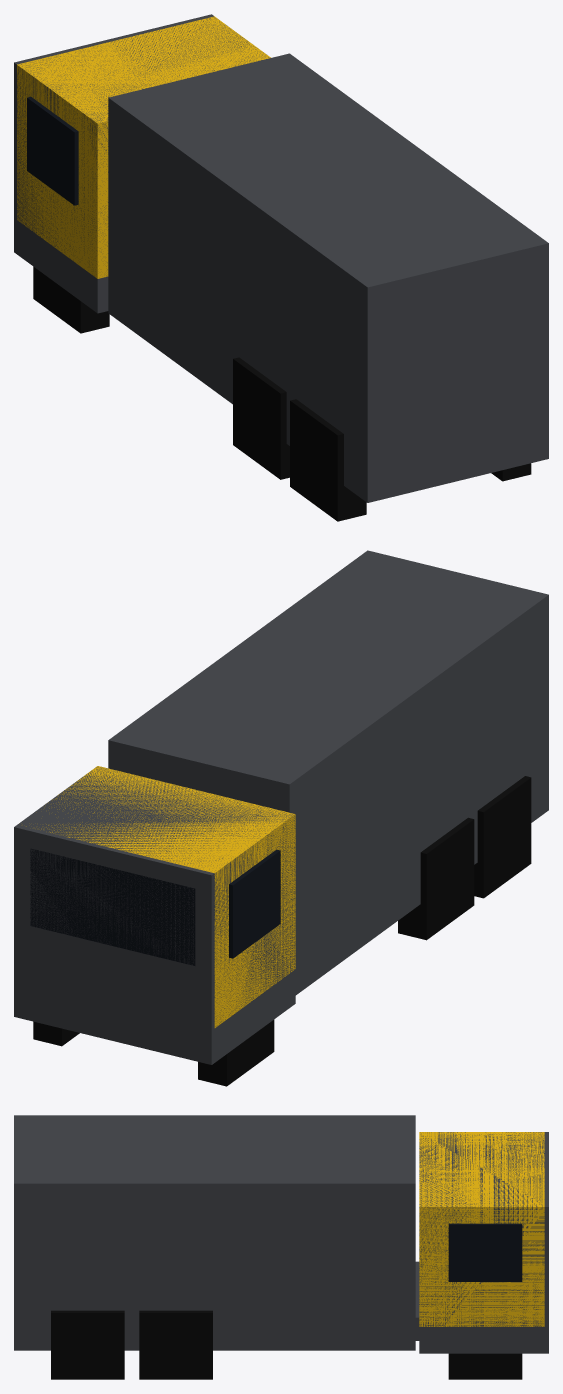
File: bne_gse_fuel_yellow.dae
3 renders of one model, top to bottom at view 1: azimuth 30°, elevation 25°; view 2: azimuth 150°, elevation 25°; view 3: azimuth 270°, elevation 25°, orthographic. The views are drawn at different scales.
Visible parts, largest first — view 1: Colmesh_bne_gse_fuel_yellow-1, bne_gse_fuel_yellow160, bne_gse_fuel_yellow16; view 2: Colmesh_bne_gse_fuel_yellow-1, bne_gse_fuel_yellow160, bne_gse_fuel_yellow16; view 3: Colmesh_bne_gse_fuel_yellow-1, bne_gse_fuel_yellow160, bne_gse_fuel_yellow16.
Part boxes in pixels (box(x1,y1,x2,y2)): Colmesh_bne_gse_fuel_yellow-1: box(14, 14, 548, 502); bne_gse_fuel_yellow160: box(17, 16, 548, 504); bne_gse_fuel_yellow16: box(33, 266, 531, 521); Colmesh_bne_gse_fuel_yellow-1: box(14, 550, 548, 1064); bne_gse_fuel_yellow160: box(26, 690, 548, 1069); bne_gse_fuel_yellow16: box(33, 776, 531, 1086); Colmesh_bne_gse_fuel_yellow-1: box(14, 1115, 548, 1353); bne_gse_fuel_yellow160: box(14, 1132, 544, 1379); bne_gse_fuel_yellow16: box(51, 1310, 522, 1379).
Size of the model in its own units: 2.5 by 7.26 by 2.9.
